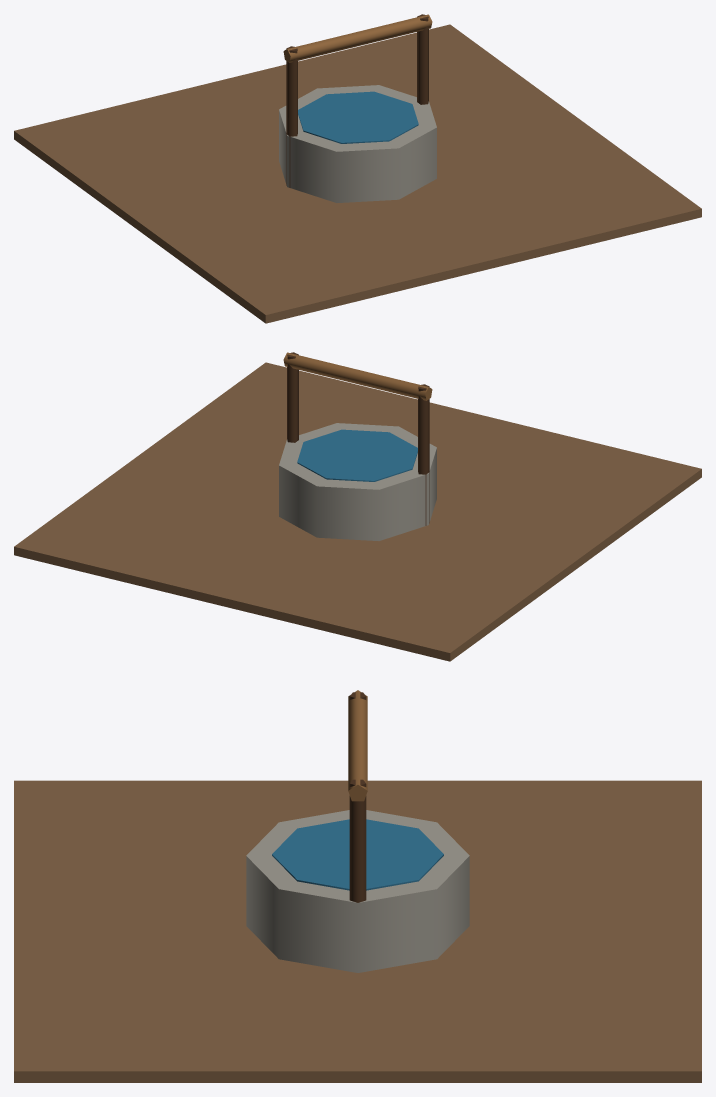
Rendered from bld_special_water_works_a01_lod1.glb.
The picture shows the model from 3 angles, top to bottom: view 1: azimuth 30°, elevation 25°; view 2: azimuth 150°, elevation 25°; view 3: azimuth 270°, elevation 25°; orthographic projection. The views are drawn at different scales.
Parts seen in each view (by area): view 1: body; view 2: body; view 3: body.
Boxes of the visible parts, x1,y1,x2,y2 form: body: (14,14,701,323); body: (14,352,701,661); body: (14,690,701,1082).
Size of the model in its own units: 8 by 2.57 by 8.
